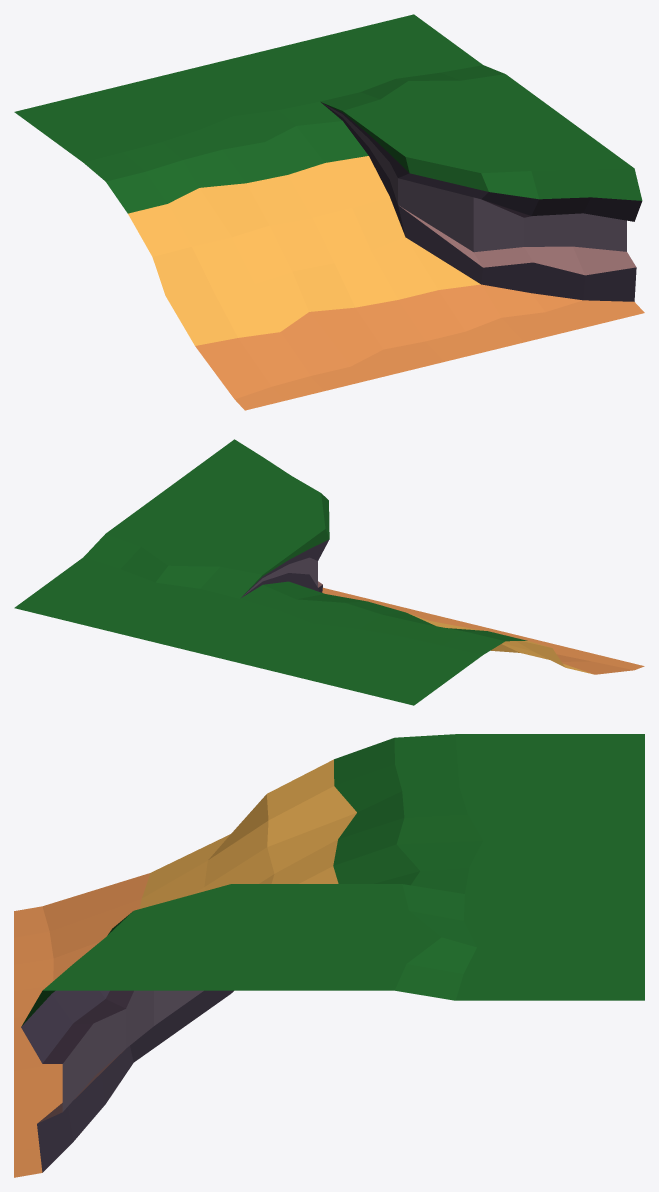
Rendered from Barranco_a_Playa_SubidaD.fbx.
3 renders of one model, top to bottom at view 1: azimuth 30°, elevation 25°; view 2: azimuth 150°, elevation 25°; view 3: azimuth 270°, elevation 25°, orthographic. The views are drawn at different scales.
Visible parts, largest first — view 1: Barranco_a_Playa_SubidaD; view 2: Barranco_a_Playa_SubidaD; view 3: Barranco_a_Playa_SubidaD.
Part boxes in pixels (x1,y1,x2,y2): Barranco_a_Playa_SubidaD: (14,14,644,410); Barranco_a_Playa_SubidaD: (14,439,644,705); Barranco_a_Playa_SubidaD: (14,734,644,1177).
Size of the model in its own units: 2000 by 654 by 2000.
